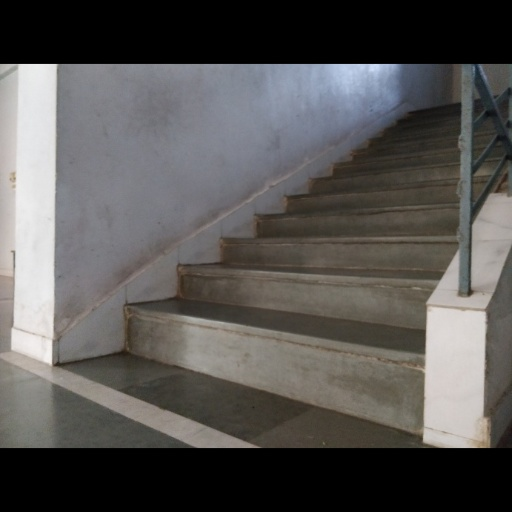Stairs: (126, 106, 459, 434)
